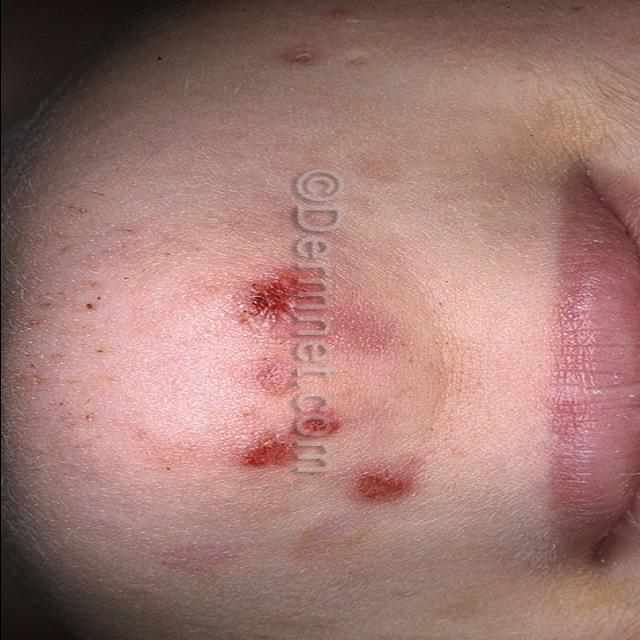Acne: (244, 274, 296, 326), (236, 432, 296, 470), (348, 472, 414, 505), (254, 363, 294, 397), (278, 48, 320, 68)
